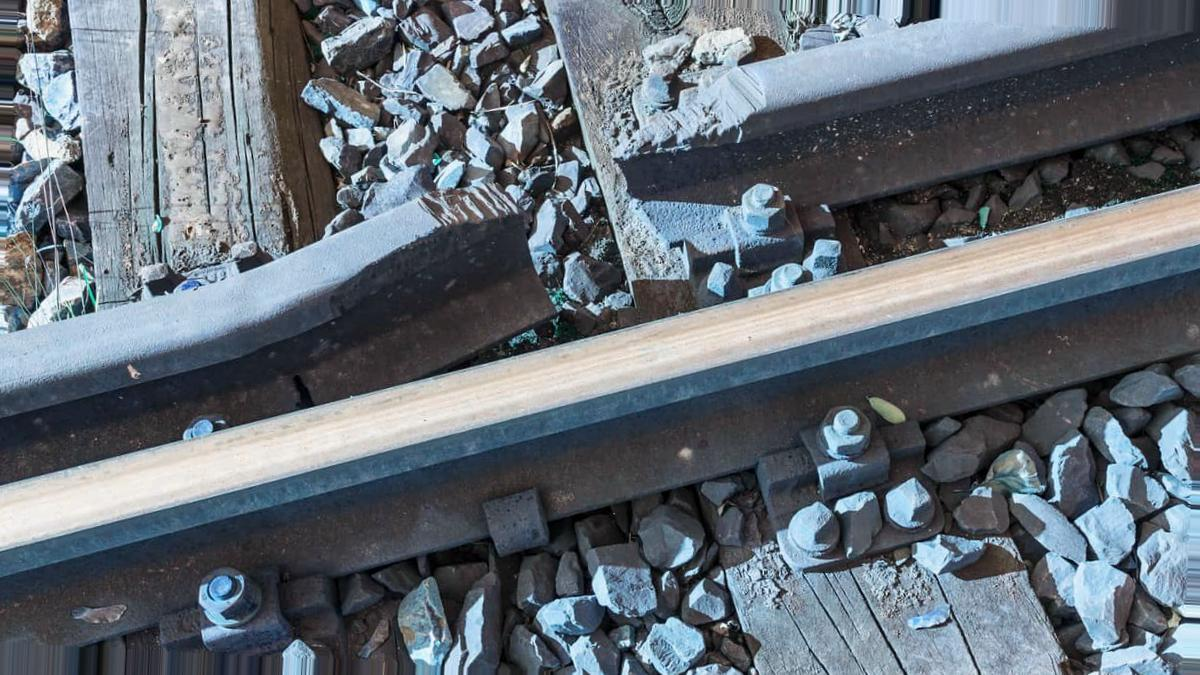tracks_fault: (400, 54, 801, 327)
